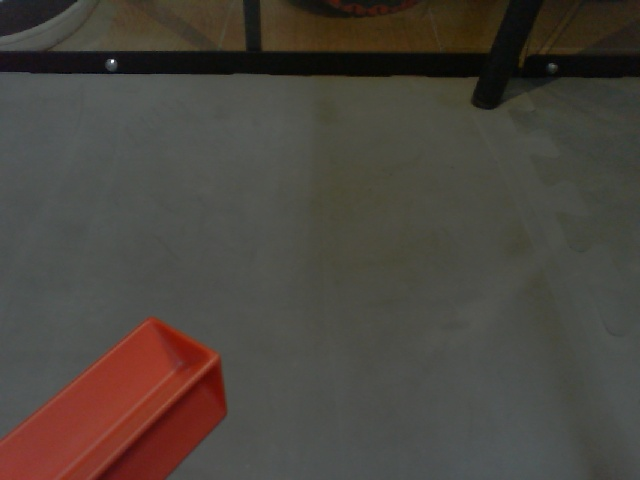RedSample: (1, 314, 226, 480)
